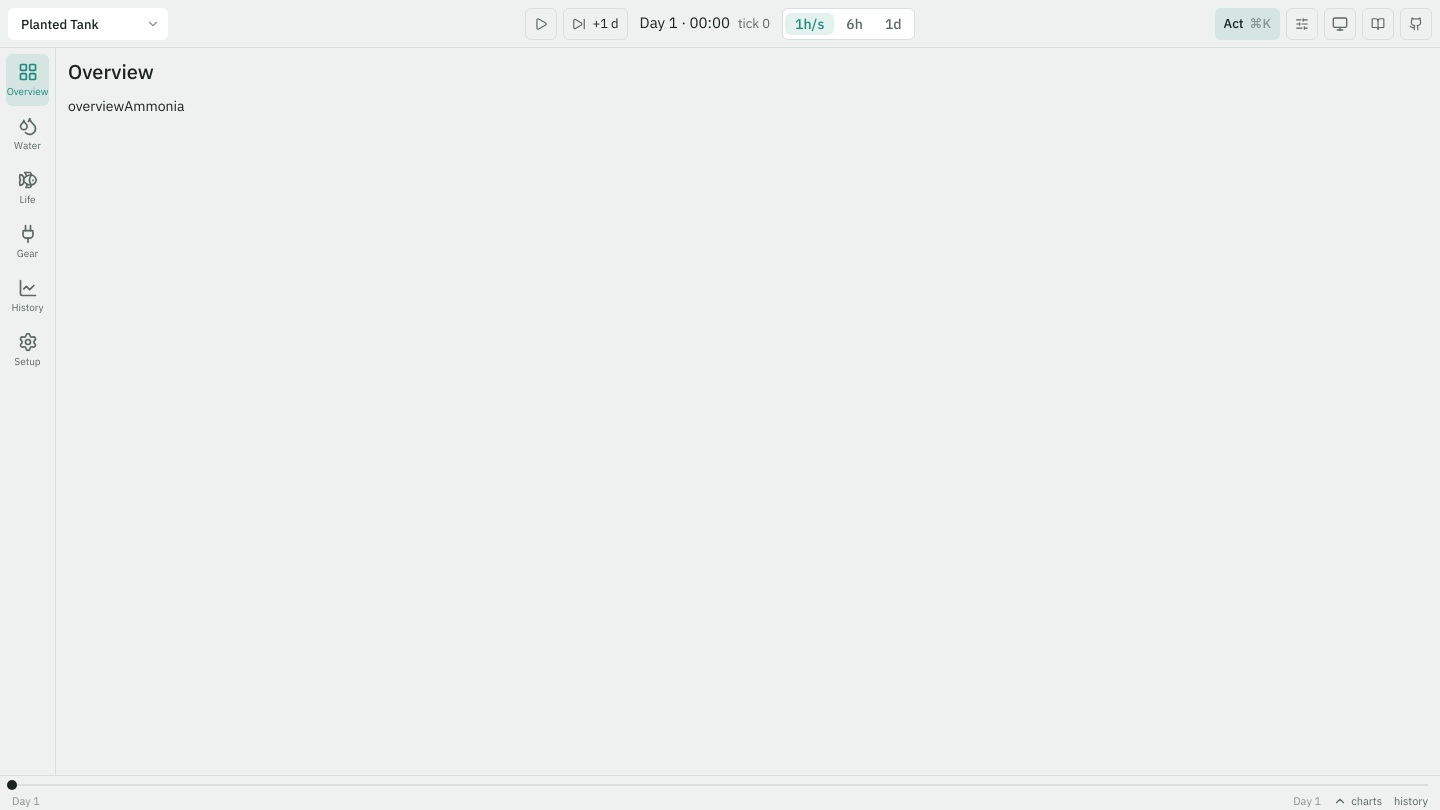
Test: AppShell — the frame › drives the run from the top bar, wherever the reader is standing
expect the text "Day 1 · 00:00" is shown: met, box [640,13,730,32]
Click the button named "Play" at (541, 24), box [525,8,557,40]
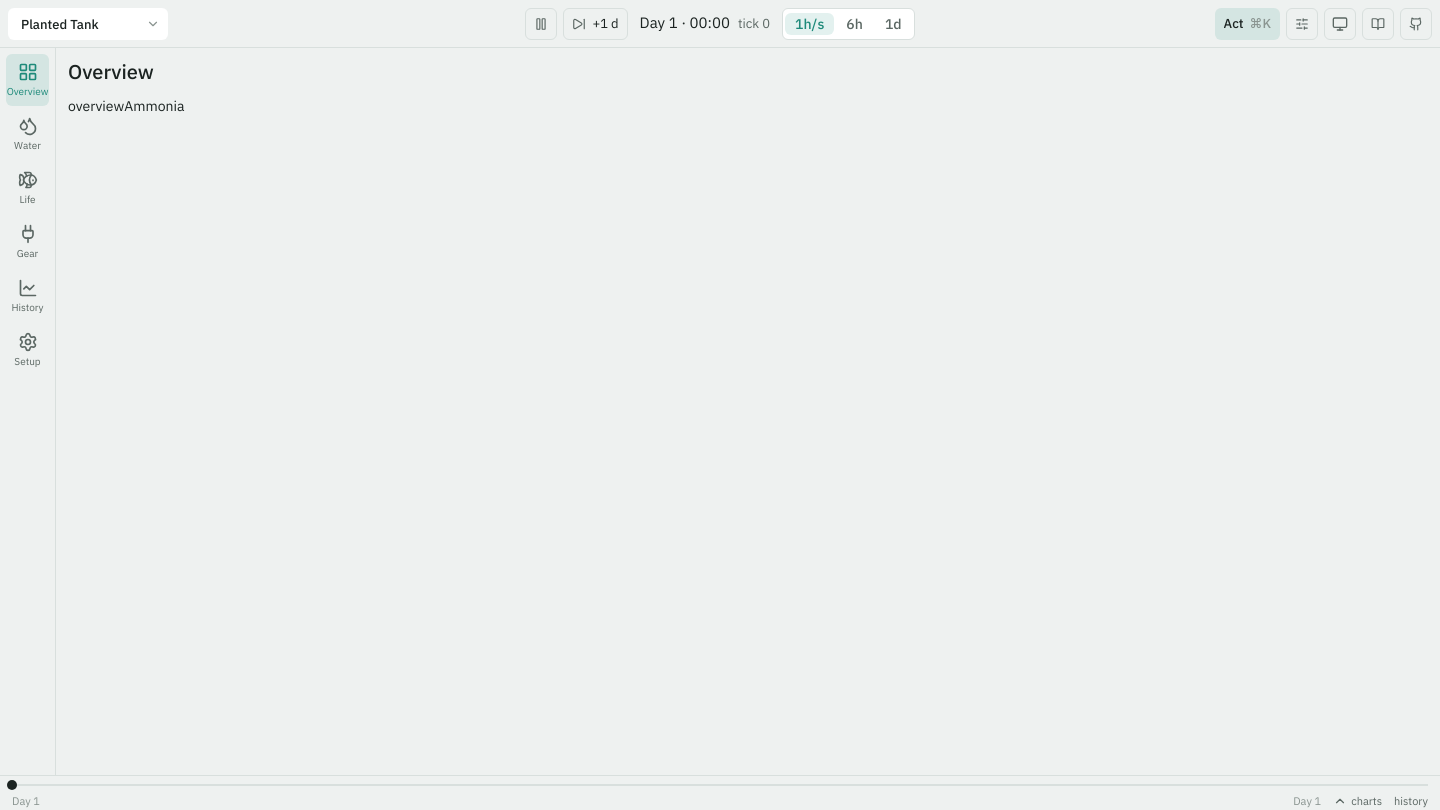
expect the button named "Pause" is shown: met, box [525,8,557,40]
